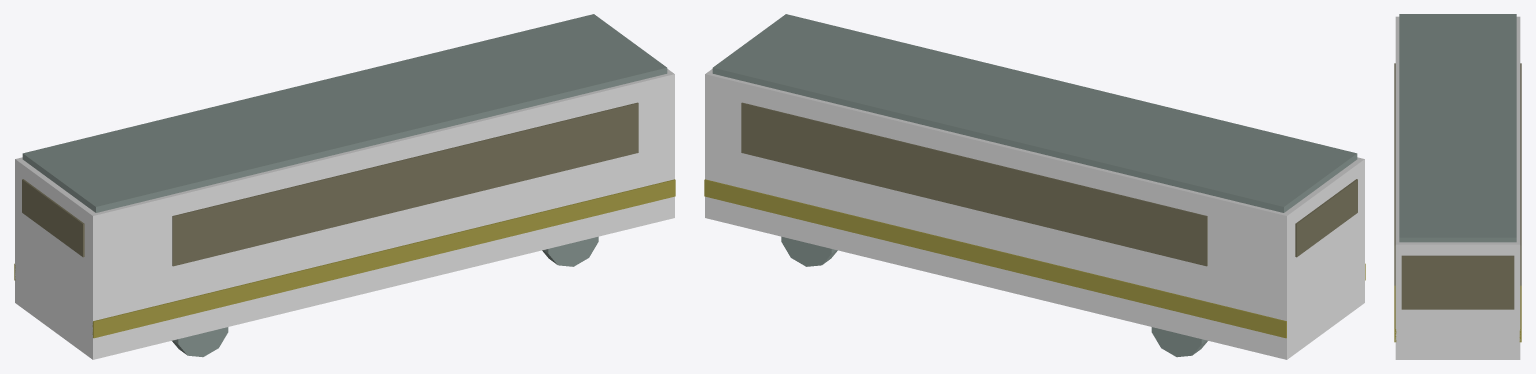
File: SM_AutobusCruzado_v0_Cruzado_LOD0.fbx
3 views of the same model, side by side, from view 1: azimuth 30°, elevation 25°; view 2: azimuth 150°, elevation 25°; view 3: azimuth 270°, elevation 25° (orthographic). The views are drawn at different scales.
Visible parts, largest first — view 1: SM_aqui_paso_algo_v15_LOD0; view 2: SM_aqui_paso_algo_v15_LOD0; view 3: SM_aqui_paso_algo_v15_LOD0.
Part boxes in pixels (<box>): SM_aqui_paso_algo_v15_LOD0: <box>14,14,675,359</box>; SM_aqui_paso_algo_v15_LOD0: <box>704,14,1365,359</box>; SM_aqui_paso_algo_v15_LOD0: <box>1394,14,1521,359</box>.
Bounding box in the file's own units: 11.06 × 3.16 × 2.6.
